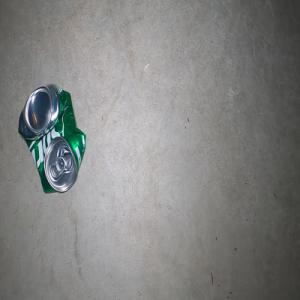SodaCan: (18, 83, 86, 193)
